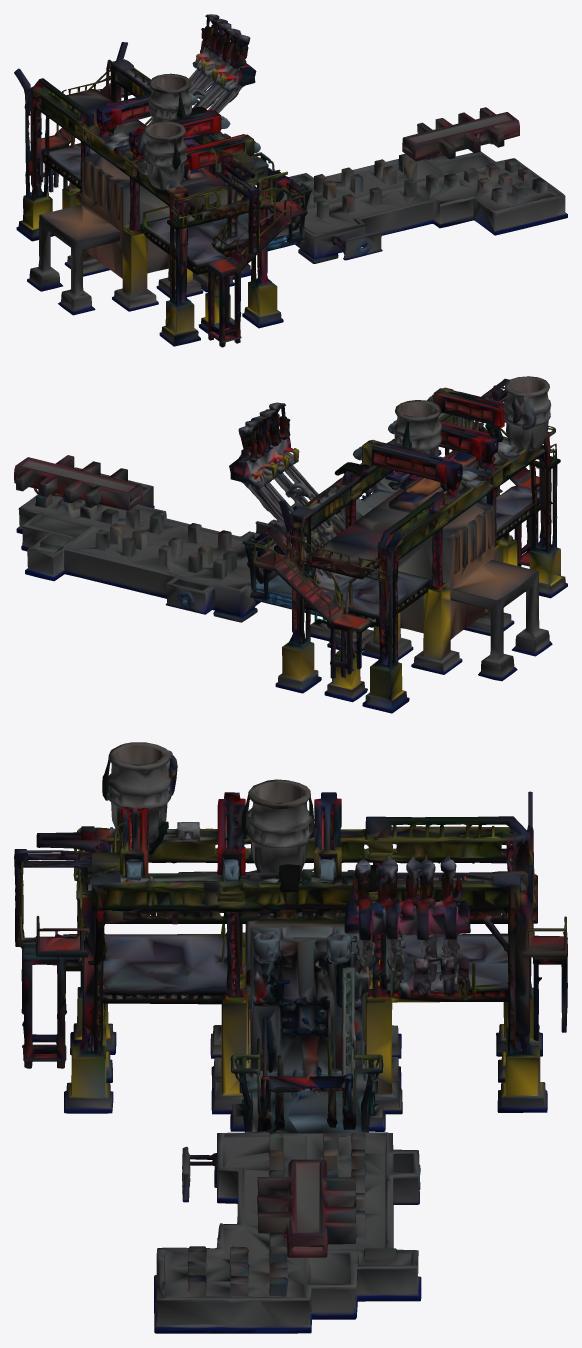
File: ccm.glb
The picture shows the model from 3 angles, top to bottom: view 1: azimuth 30°, elevation 25°; view 2: azimuth 150°, elevation 25°; view 3: azimuth 270°, elevation 25°; orthographic projection. The views are drawn at different scales.
Bounding box in the file's own units: 1 × 0.4117 × 0.6938.
